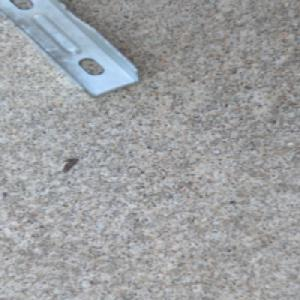ClampPart: (0, 0, 143, 99)
